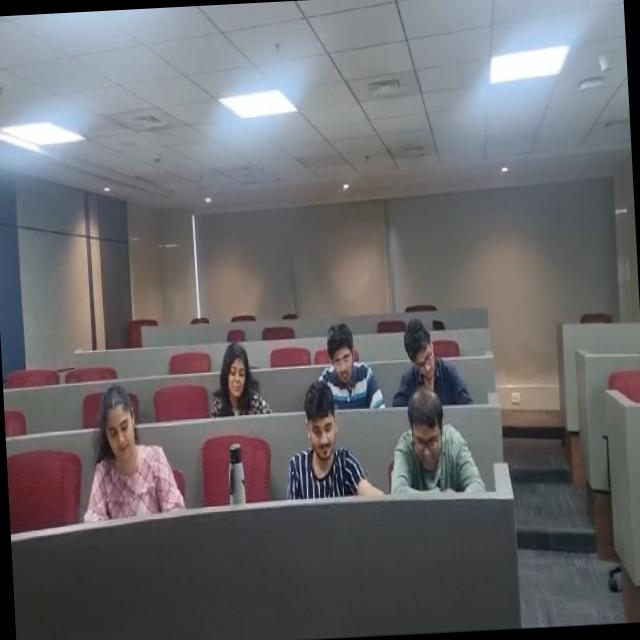cheating: (351, 386, 479, 512), (82, 365, 164, 523), (279, 378, 362, 511)
non-cheating: (389, 306, 467, 402), (202, 328, 268, 428), (312, 312, 368, 402)
